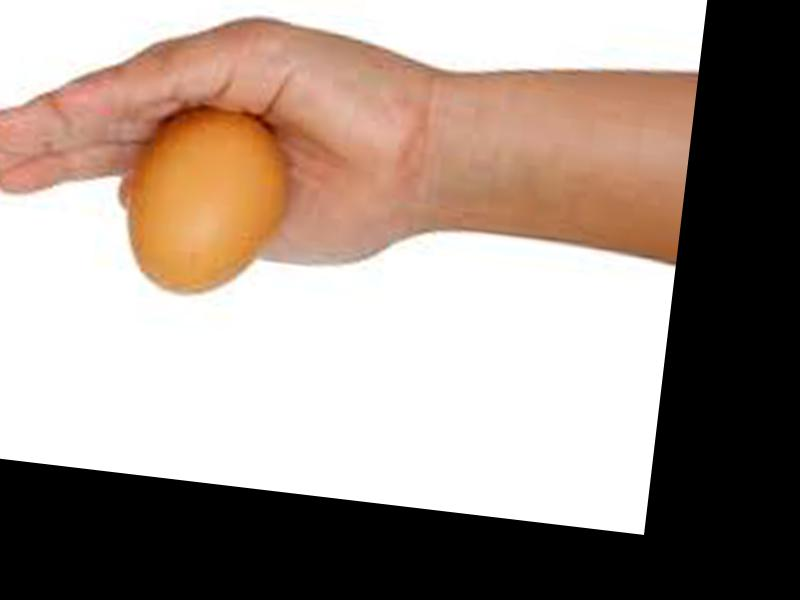Eggs: (119, 96, 294, 306)
